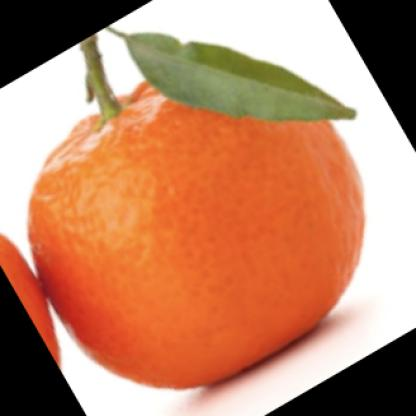fresh: (26, 64, 366, 384)
